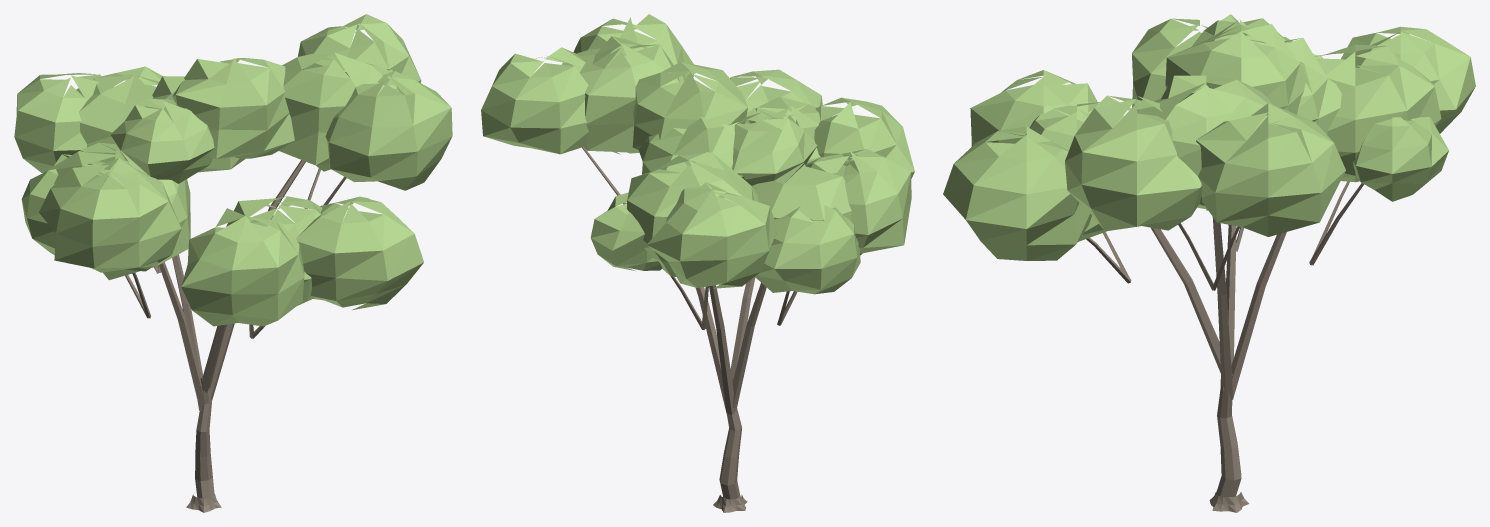
The model's file is temperate-forest-ecology-english-oak-young-d9fcd5d4__3777.glb.
The picture shows the model from 3 angles, left to right: view 1: azimuth 30°, elevation 25°; view 2: azimuth 150°, elevation 25°; view 3: azimuth 270°, elevation 25°; orthographic projection. The views are drawn at different scales.
Parts seen in each view (by area): view 1: english-oak-young; view 2: english-oak-young; view 3: english-oak-young.
Part boxes in pixels (bbox=[...]): english-oak-young: bbox=[14, 14, 452, 512]; english-oak-young: bbox=[481, 14, 914, 512]; english-oak-young: bbox=[943, 14, 1475, 512].
Bounding box in the file's own units: 8.05 × 8.75 × 8.55.
